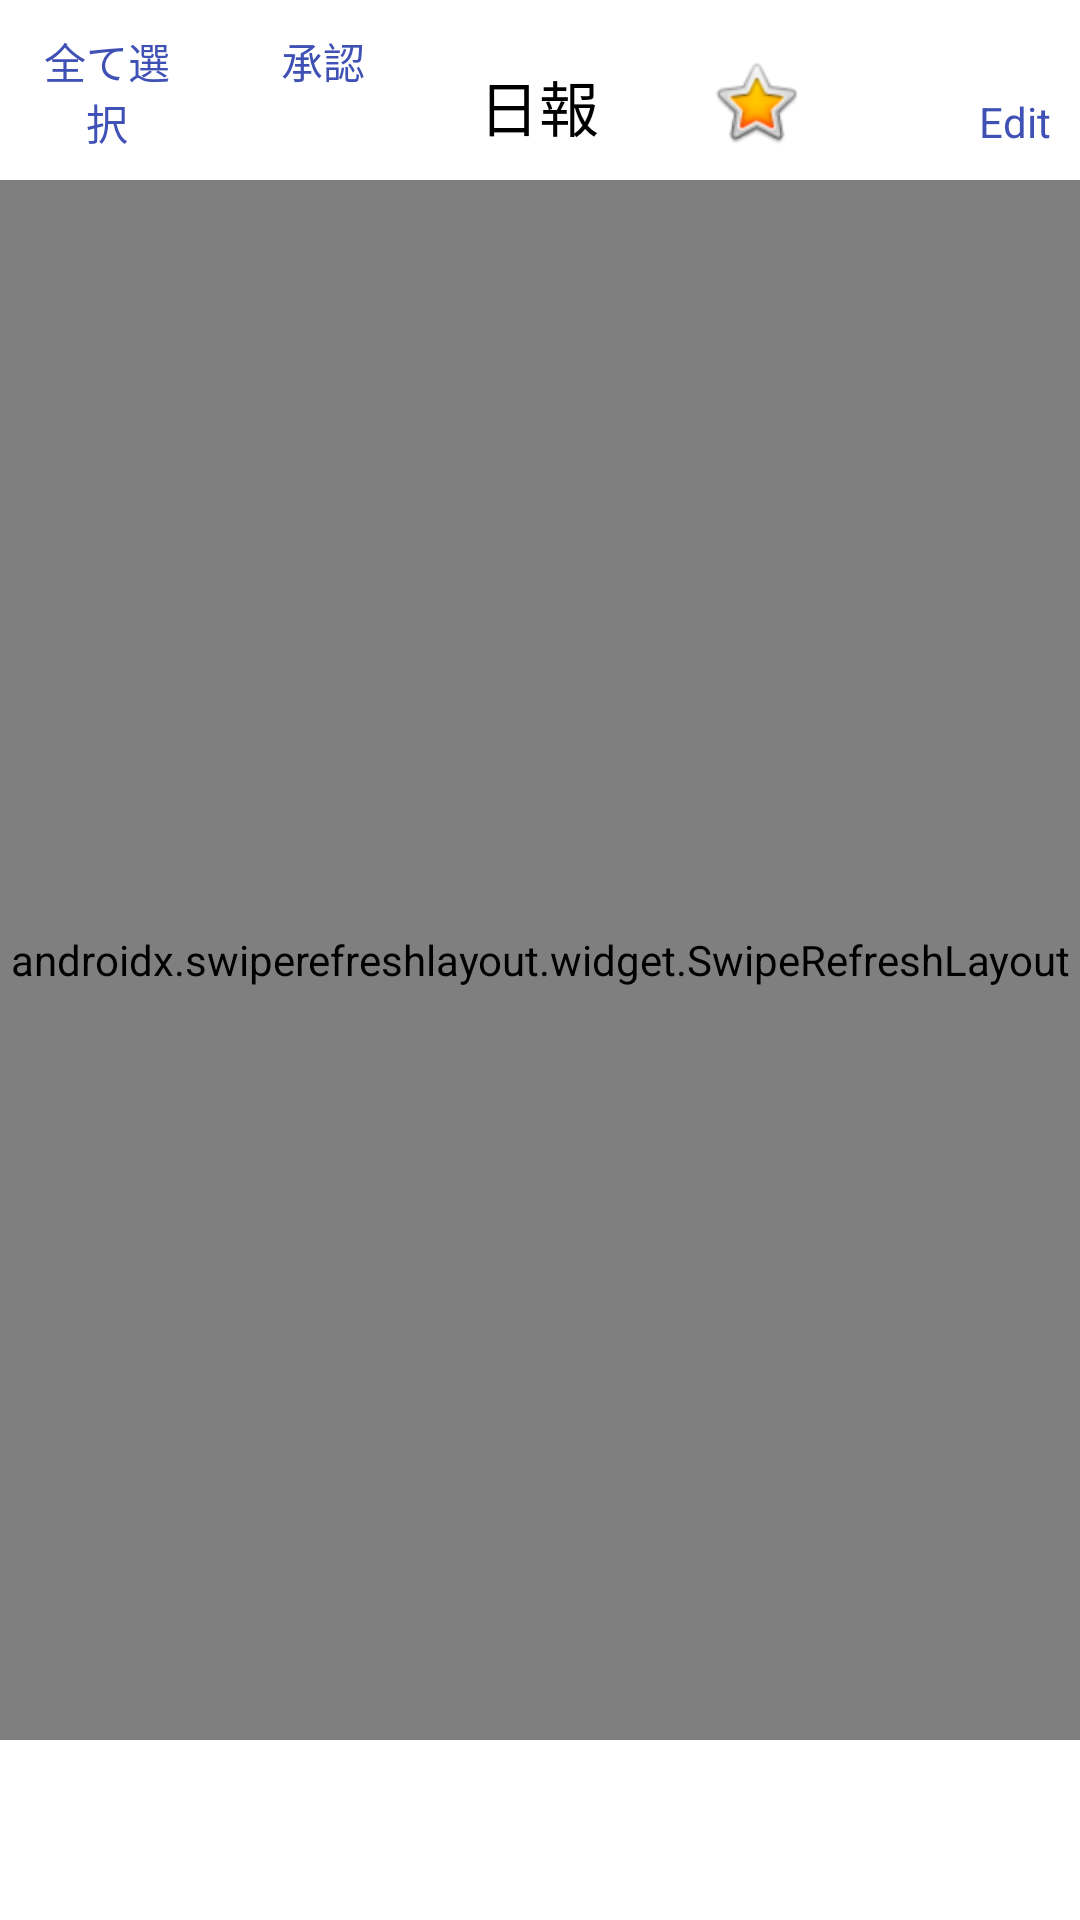

Where to tap for icons on this 1080w x 1920h app screen, as point (x, y):
star on: point (757, 103)
